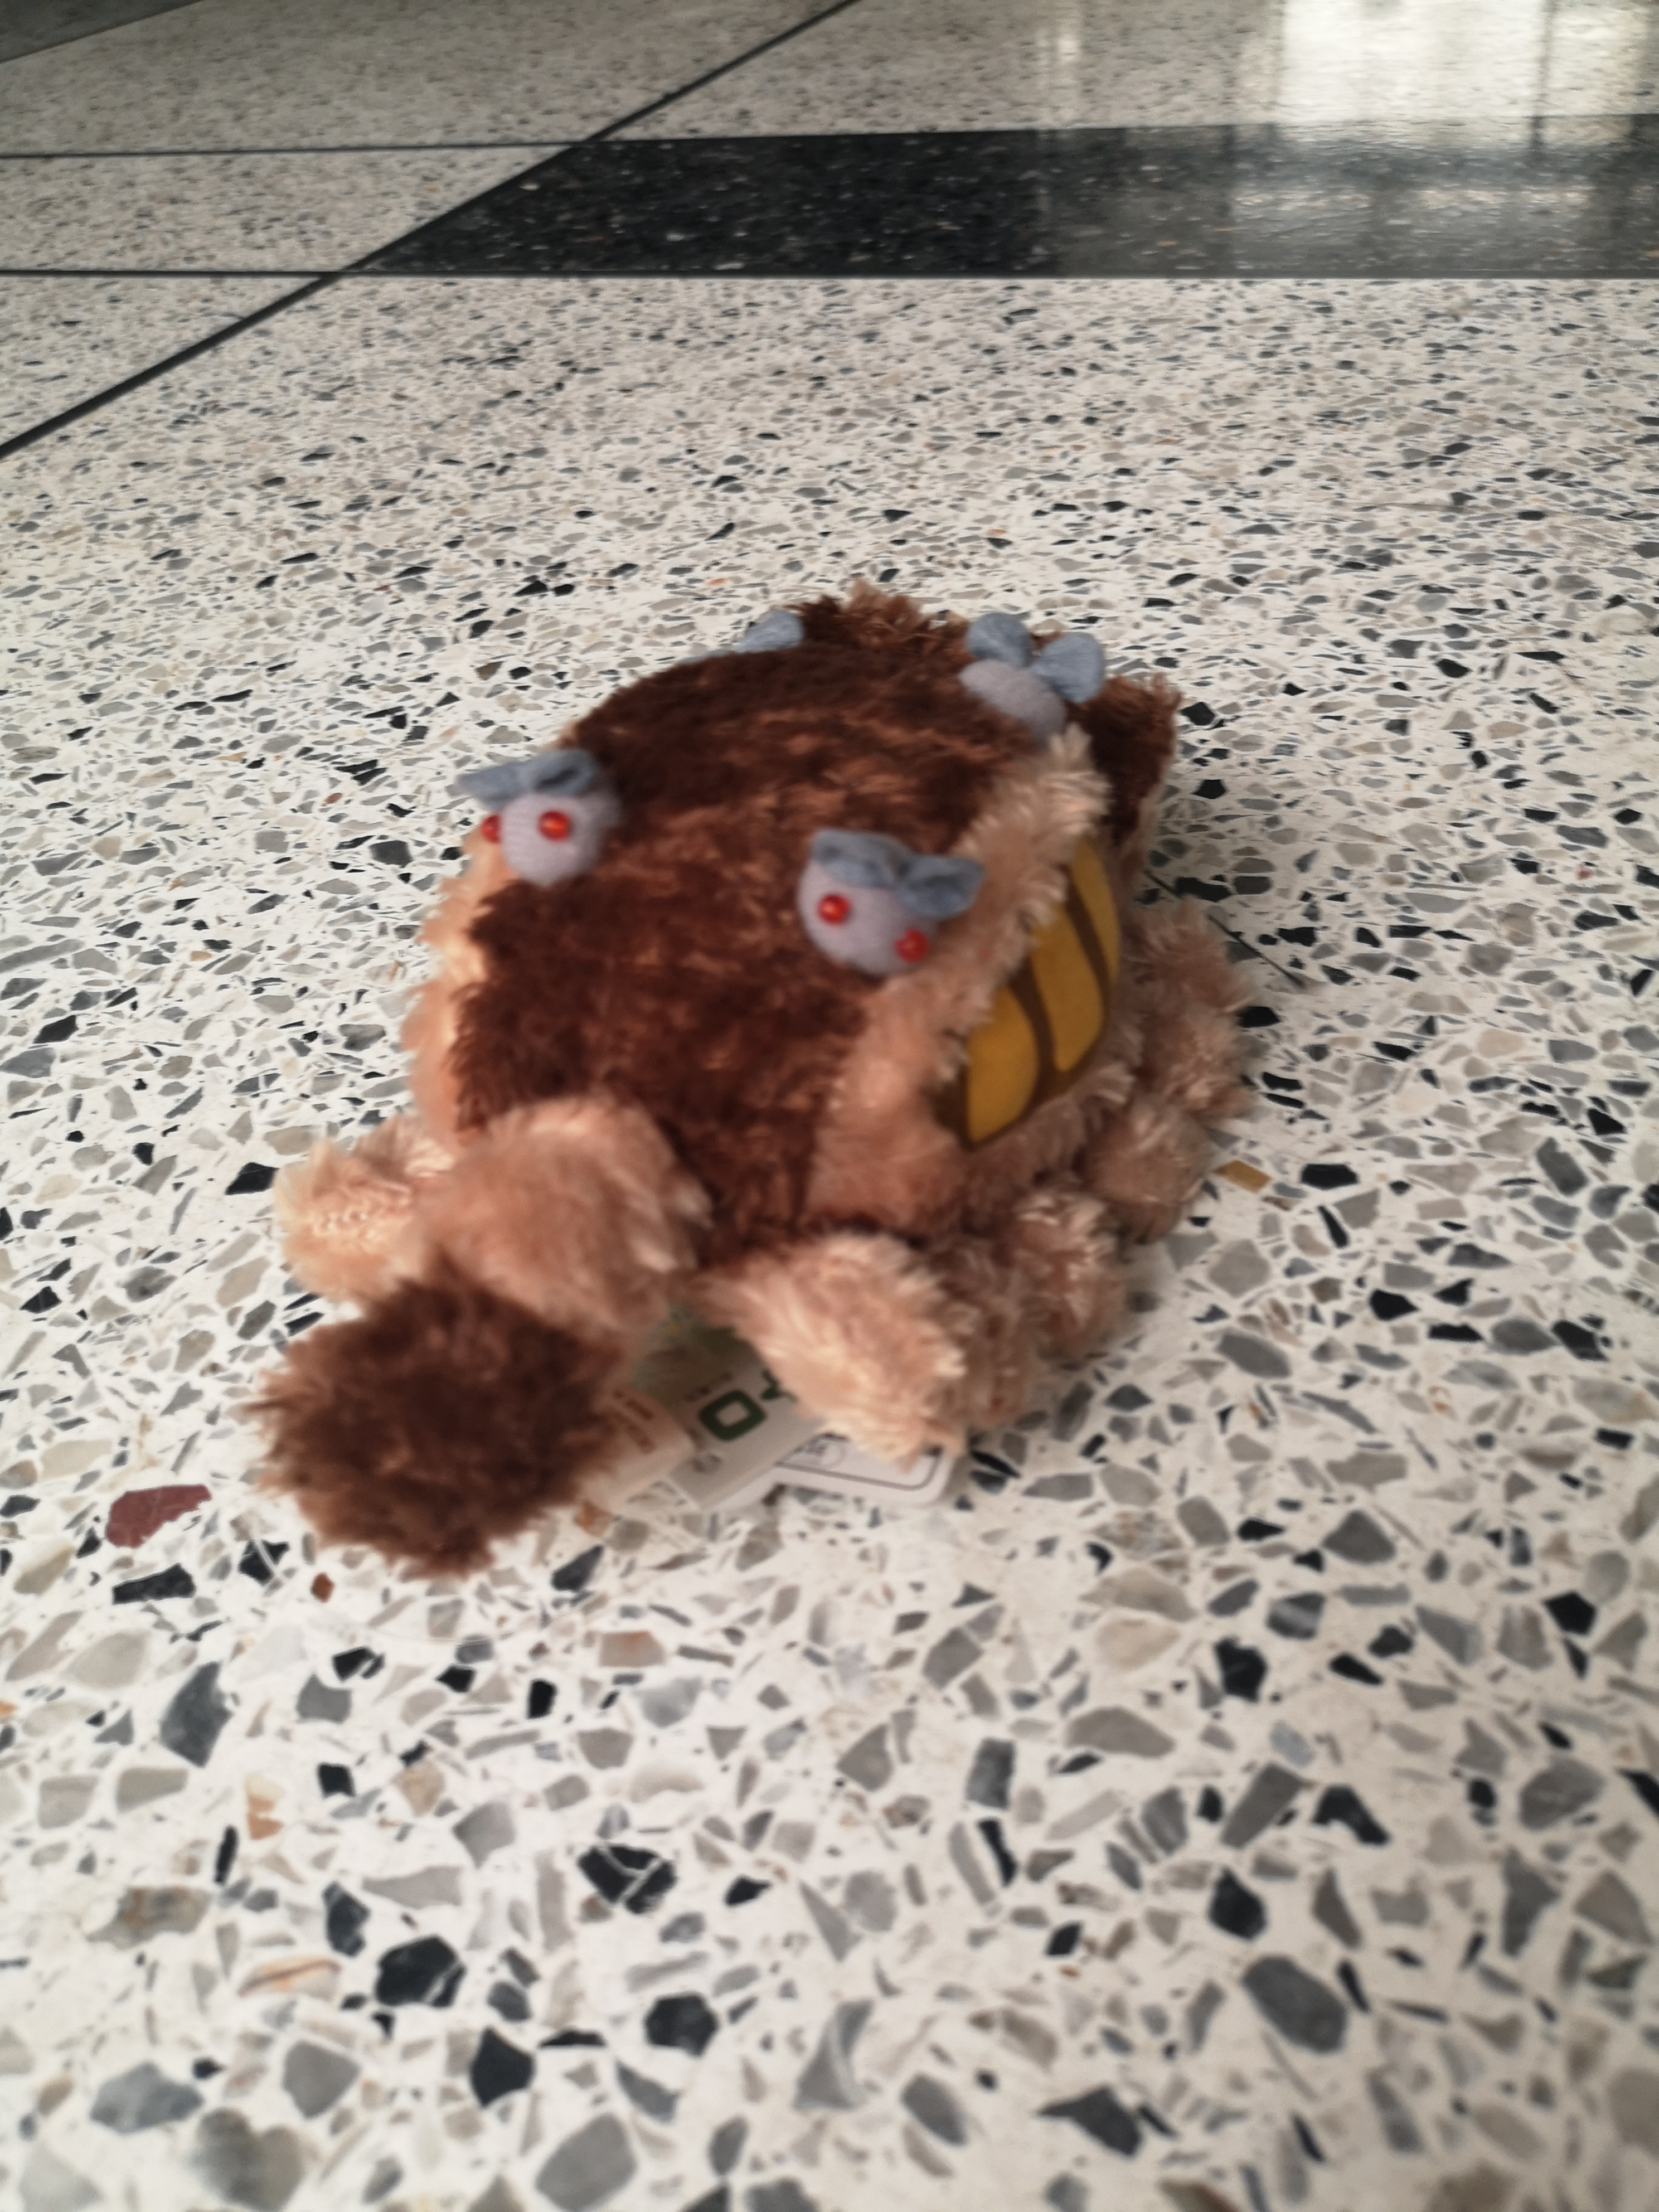nekobus: (228, 557, 1262, 1595)
